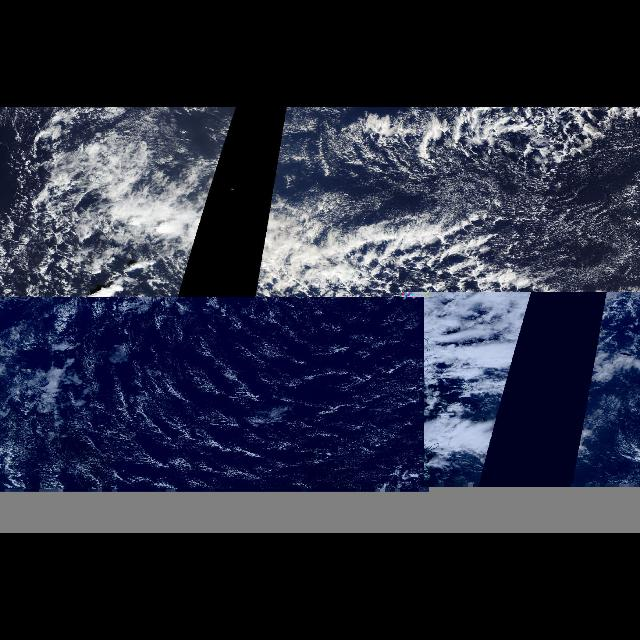Sugar: (380, 154, 638, 272)
